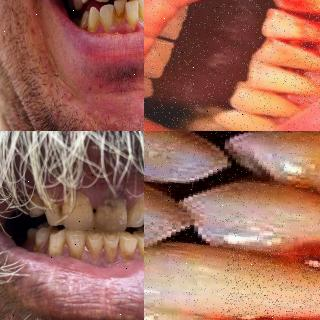Gum Swelling: (214, 201, 320, 320), (94, 20, 144, 36)
calculus: (86, 18, 100, 36), (127, 19, 141, 31), (100, 20, 112, 34), (140, 18, 144, 30)
cavities: (100, 192, 128, 230)
maligned: (252, 39, 320, 78), (247, 58, 313, 94), (124, 0, 140, 29), (114, 0, 126, 25)
plaque: (64, 193, 96, 217), (133, 195, 144, 217), (32, 243, 40, 256)
stains: (102, 240, 121, 266), (66, 240, 86, 262), (118, 240, 136, 264), (87, 239, 105, 261), (46, 238, 64, 260), (112, 4, 128, 28), (66, 228, 88, 244), (52, 201, 66, 223), (106, 229, 120, 249), (50, 224, 66, 241), (87, 230, 103, 246), (120, 229, 136, 245), (40, 224, 56, 239), (138, 242, 144, 264), (137, 228, 144, 243)
